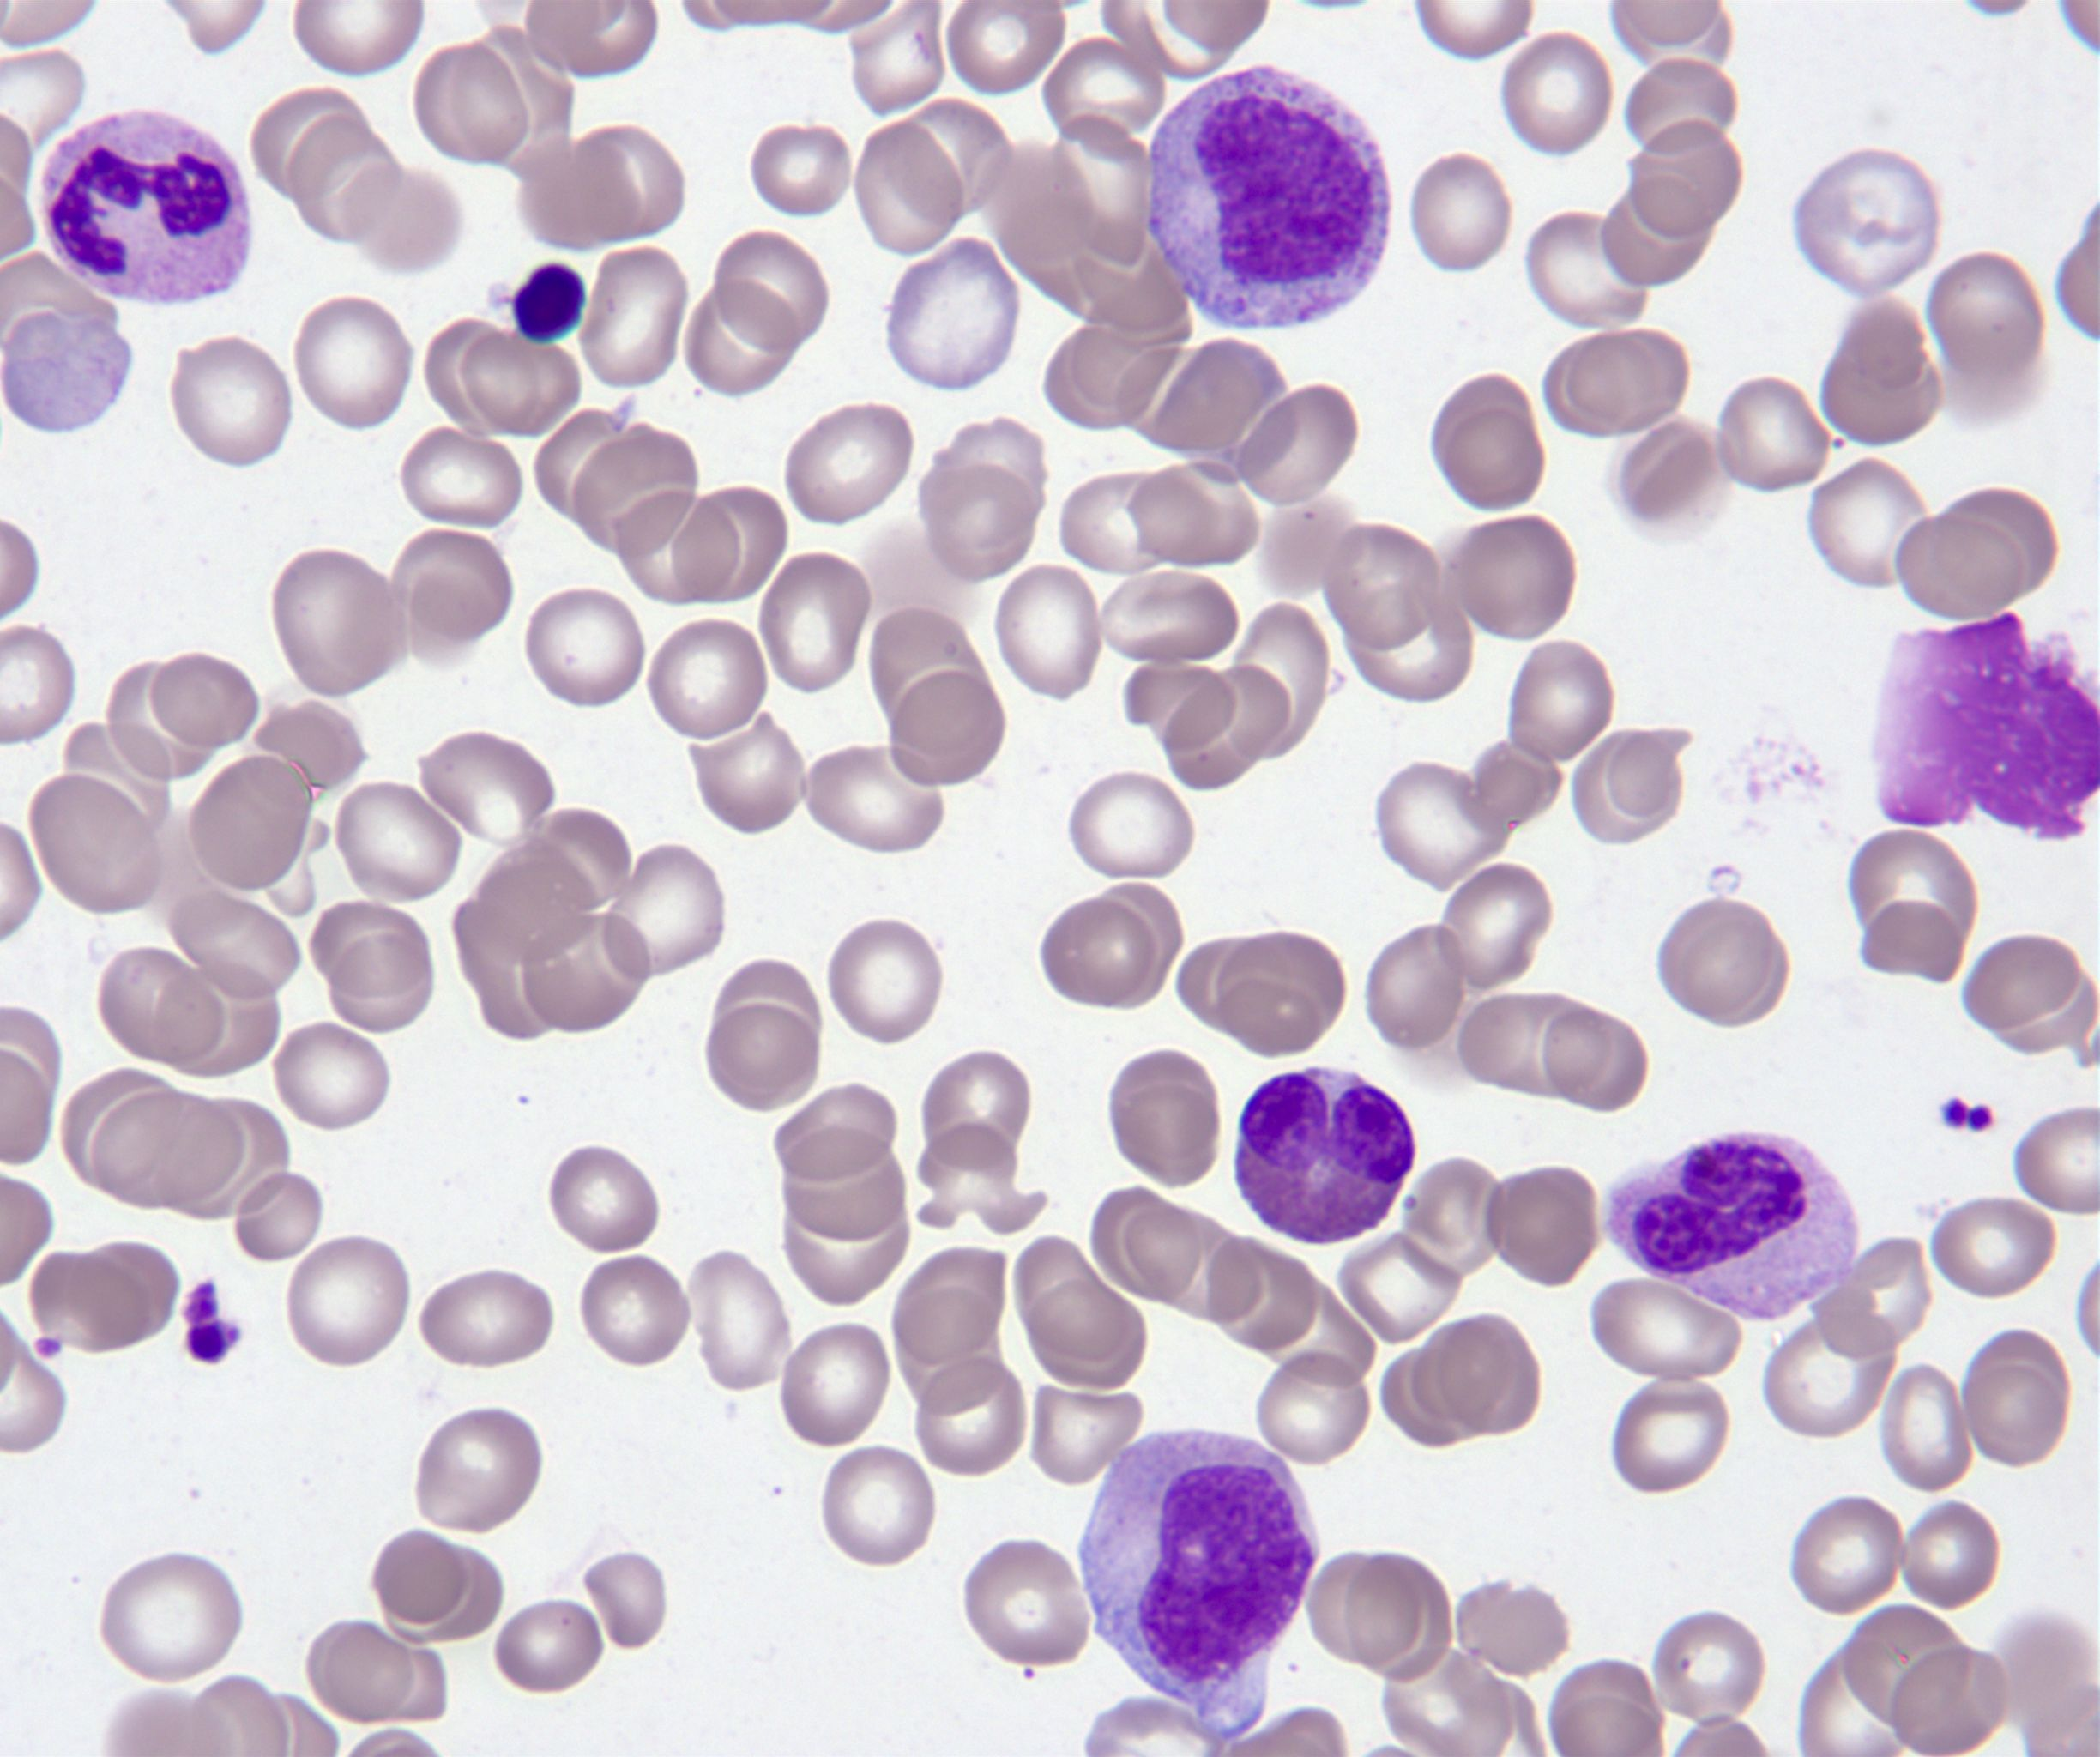24: (513, 263, 584, 340)
3: (1080, 1432, 1319, 1743), (1149, 68, 1390, 328)
5: (37, 112, 249, 307)
E4: (1237, 1066, 1415, 1246)
x: (1872, 618, 2100, 839), (1605, 1136, 1858, 1323)
